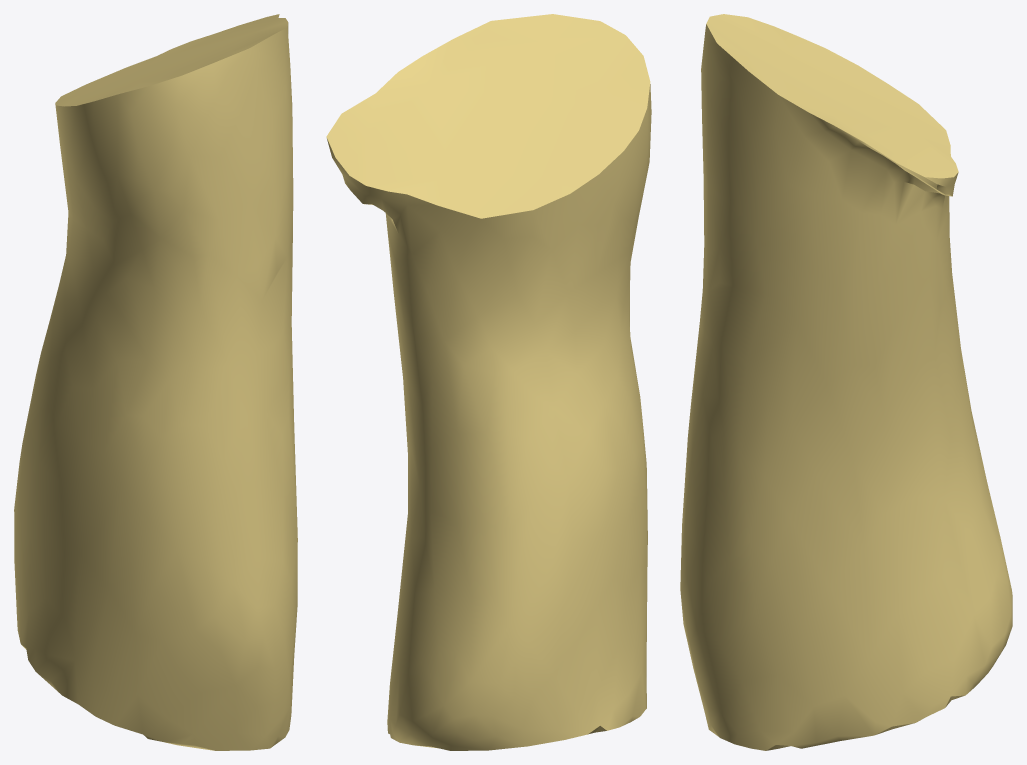
The model's file is fma73873-f_mm2681.glb.
3 views of the same model, side by side, from view 1: azimuth 30°, elevation 25°; view 2: azimuth 150°, elevation 25°; view 3: azimuth 270°, elevation 25° (orthographic). The views are drawn at different scales.
Parts seen in each view (by area): view 1: FMA73873-F_MM2681; view 2: FMA73873-F_MM2681; view 3: FMA73873-F_MM2681.
Boxes of the visible parts, bbox=[...] form: FMA73873-F_MM2681: bbox=[14, 14, 297, 750]; FMA73873-F_MM2681: bbox=[326, 14, 651, 750]; FMA73873-F_MM2681: bbox=[680, 14, 1012, 750].
Size of the model in its own units: 0.00348 by 0.0088 by 0.0039.
